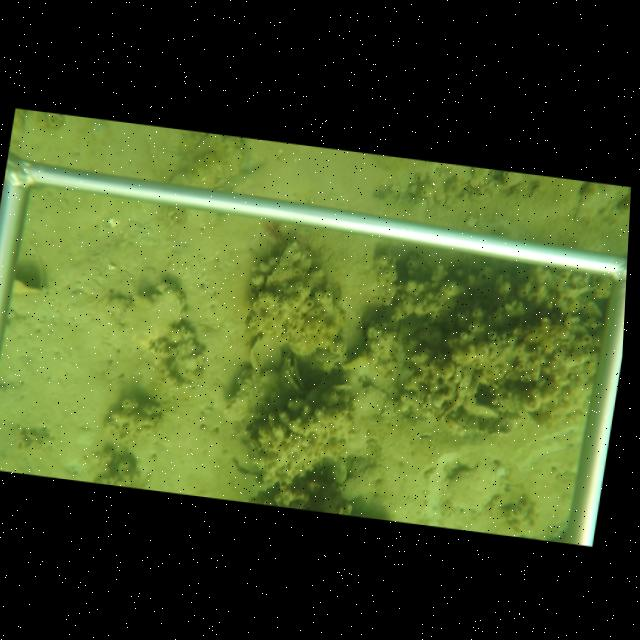Oyster-Indeterminate: (119, 287, 185, 347), (445, 458, 511, 511)
Oyster-Open: (282, 352, 308, 397)
